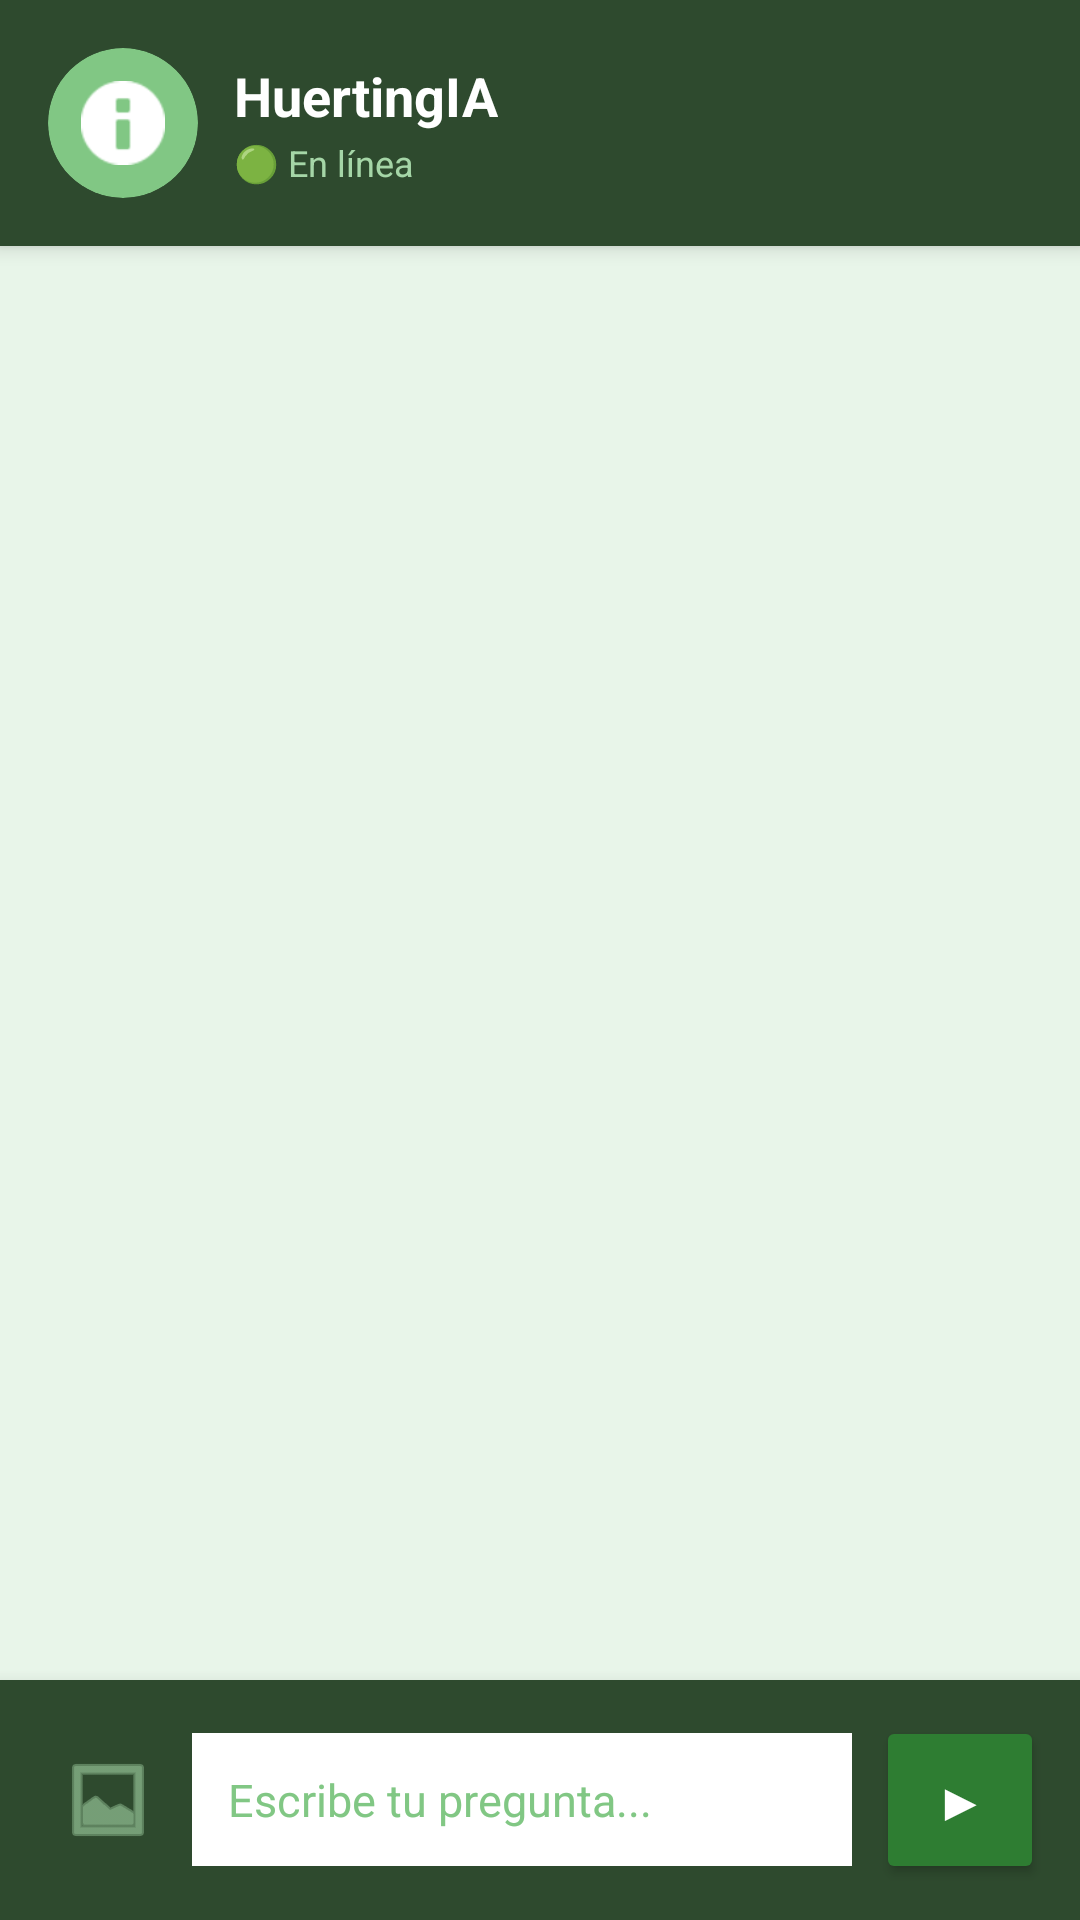

Screen size 1080x1920. Icon name, then its box in pixels as [x1=x1, y1=y1, x2=x2, y2=y2]:
Adjuntar imagen: [x1=72, y1=1764, x2=144, y2=1836]
info: [x1=81, y1=81, x2=165, y2=165]
